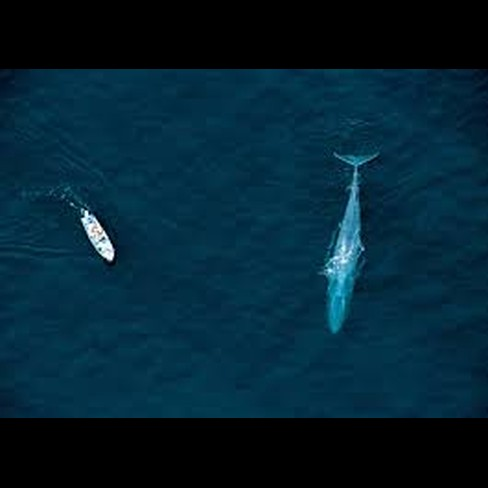bluewhale: (314, 149, 384, 339)
boat: (75, 202, 120, 269)
